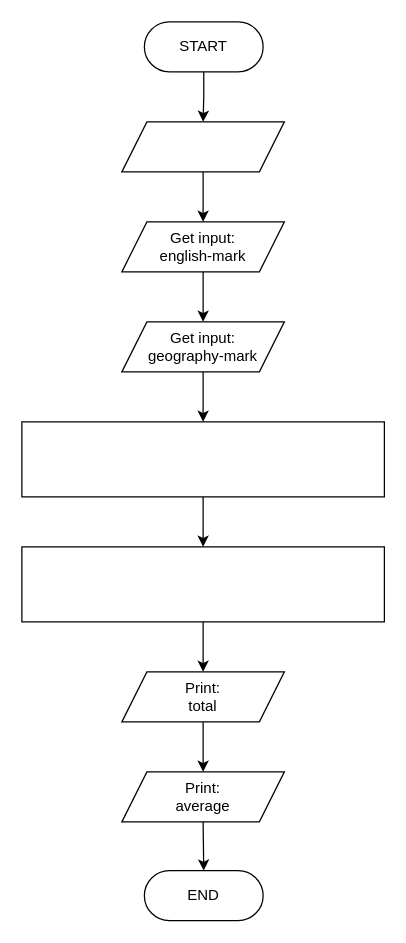
This 406x943 diagram has some shape labels left out. Here are the shapes that lost their labels. From the top down, the box of each, then its label:
(121, 121, 284, 172): Get input: math-mark
(21, 421, 384, 497): total = math-mark + english-mark + geography-mark
(21, 546, 384, 622): average = total / 3
